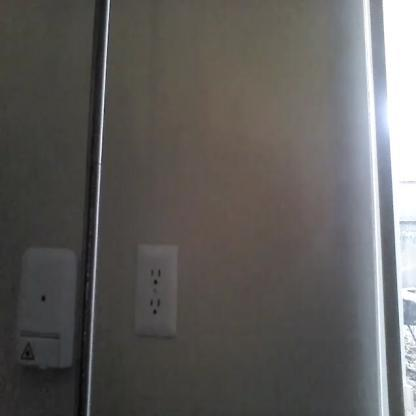OUTLET: (136, 244, 177, 336)
